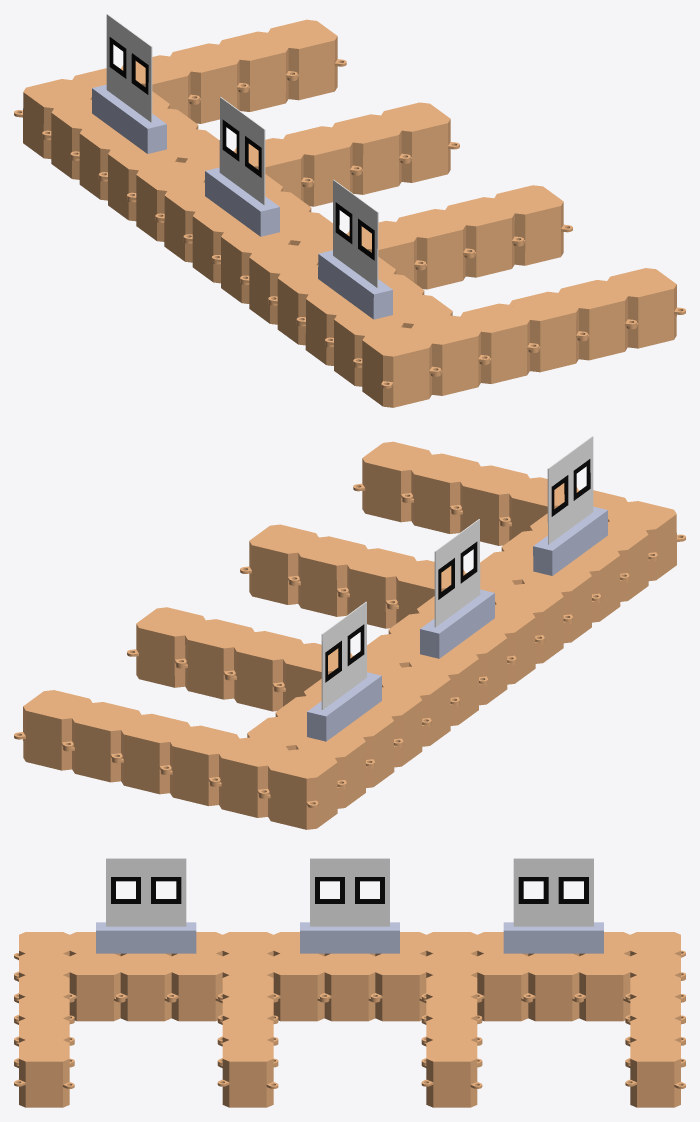
File: docking_station_bounded.glb
3 views of the same model, one above another, from view 1: azimuth 30°, elevation 25°; view 2: azimuth 150°, elevation 25°; view 3: azimuth 270°, elevation 25° (orthographic). The views are drawn at different scales.
Visible parts, largest first — view 1: Part, Part 3, Part 2, Part 4; view 2: Part, Part 3, Part 2, Part 4; view 3: Part, Part 3, Part 2, Part 4.
Boxes of the visible parts, left/top/right/bottom form: Part: left=14, top=19, right=685, bottom=407; Part 3: left=106, top=14, right=378, bottom=287; Part 2: left=92, top=84, right=392, bottom=319; Part 4: left=109, top=37, right=374, bottom=260; Part: left=14, top=441, right=685, bottom=829; Part 3: left=321, top=436, right=593, bottom=709; Part 2: left=307, top=506, right=607, bottom=741; Part 4: left=325, top=459, right=590, bottom=682; Part: left=14, top=932, right=685, bottom=1107; Part 3: left=106, top=858, right=593, bottom=926; Part 2: left=96, top=922, right=603, bottom=953; Part 4: left=111, top=877, right=588, bottom=903.
Bounding box in the file's own units: 3.14 × 1.51 × 6.7.
